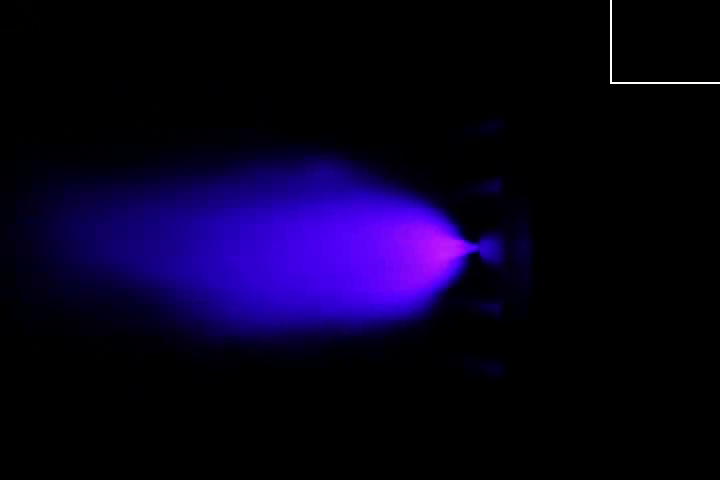burner cap: (473, 229, 504, 272)
stable: (375, 199, 479, 297)
